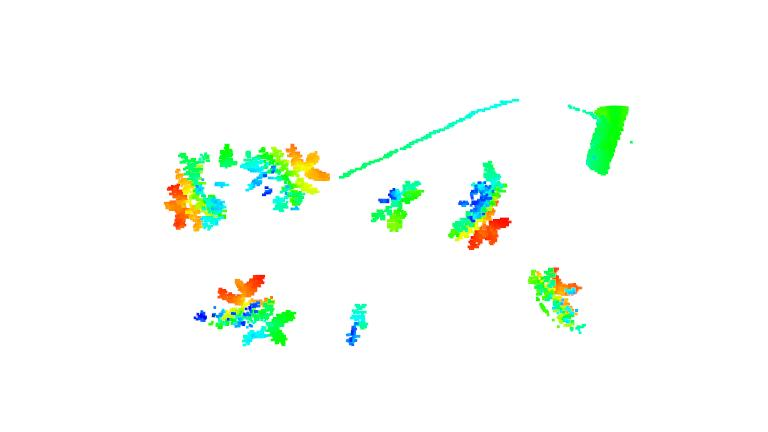chickpea: (186, 274, 301, 350), (167, 141, 237, 245), (237, 142, 334, 214), (447, 158, 512, 254), (525, 264, 591, 332), (334, 297, 392, 355), (372, 175, 427, 234)
